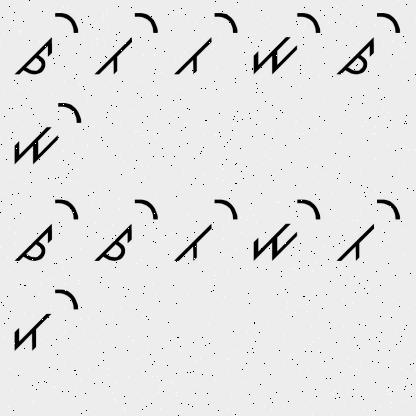bay: (332, 191, 402, 273), (170, 194, 240, 270), (167, 7, 240, 78), (96, 8, 158, 78)
cay: (90, 193, 162, 272), (12, 188, 82, 266), (334, 6, 402, 81), (13, 8, 84, 78)
may: (244, 5, 320, 84), (6, 93, 86, 168), (244, 192, 324, 266)
